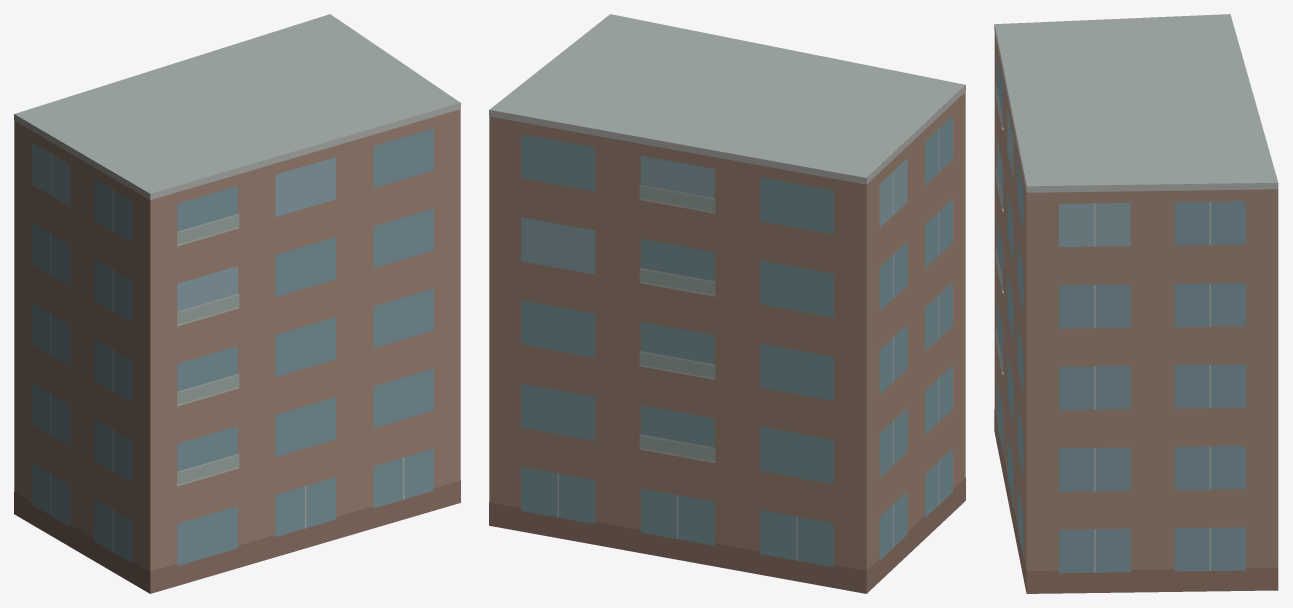
The model's file is survey-upis-32736763.glb.
3 views of the same model, side by side, from view 1: azimuth 30°, elevation 25°; view 2: azimuth 150°, elevation 25°; view 3: azimuth 270°, elevation 25° (orthographic). The views are drawn at different scales.
Parts seen in each view (by area): view 1: survey-upis-32736763.tmp; view 2: survey-upis-32736763.tmp; view 3: survey-upis-32736763.tmp.
Part boxes in pixels (x1=…): survey-upis-32736763.tmp: x1=14, y1=14, x2=460, y2=593; survey-upis-32736763.tmp: x1=489, y1=14, x2=965, y2=593; survey-upis-32736763.tmp: x1=994, y1=14, x2=1278, y2=593.
Size of the model in its own units: 13.83 by 15.25 by 9.63.
